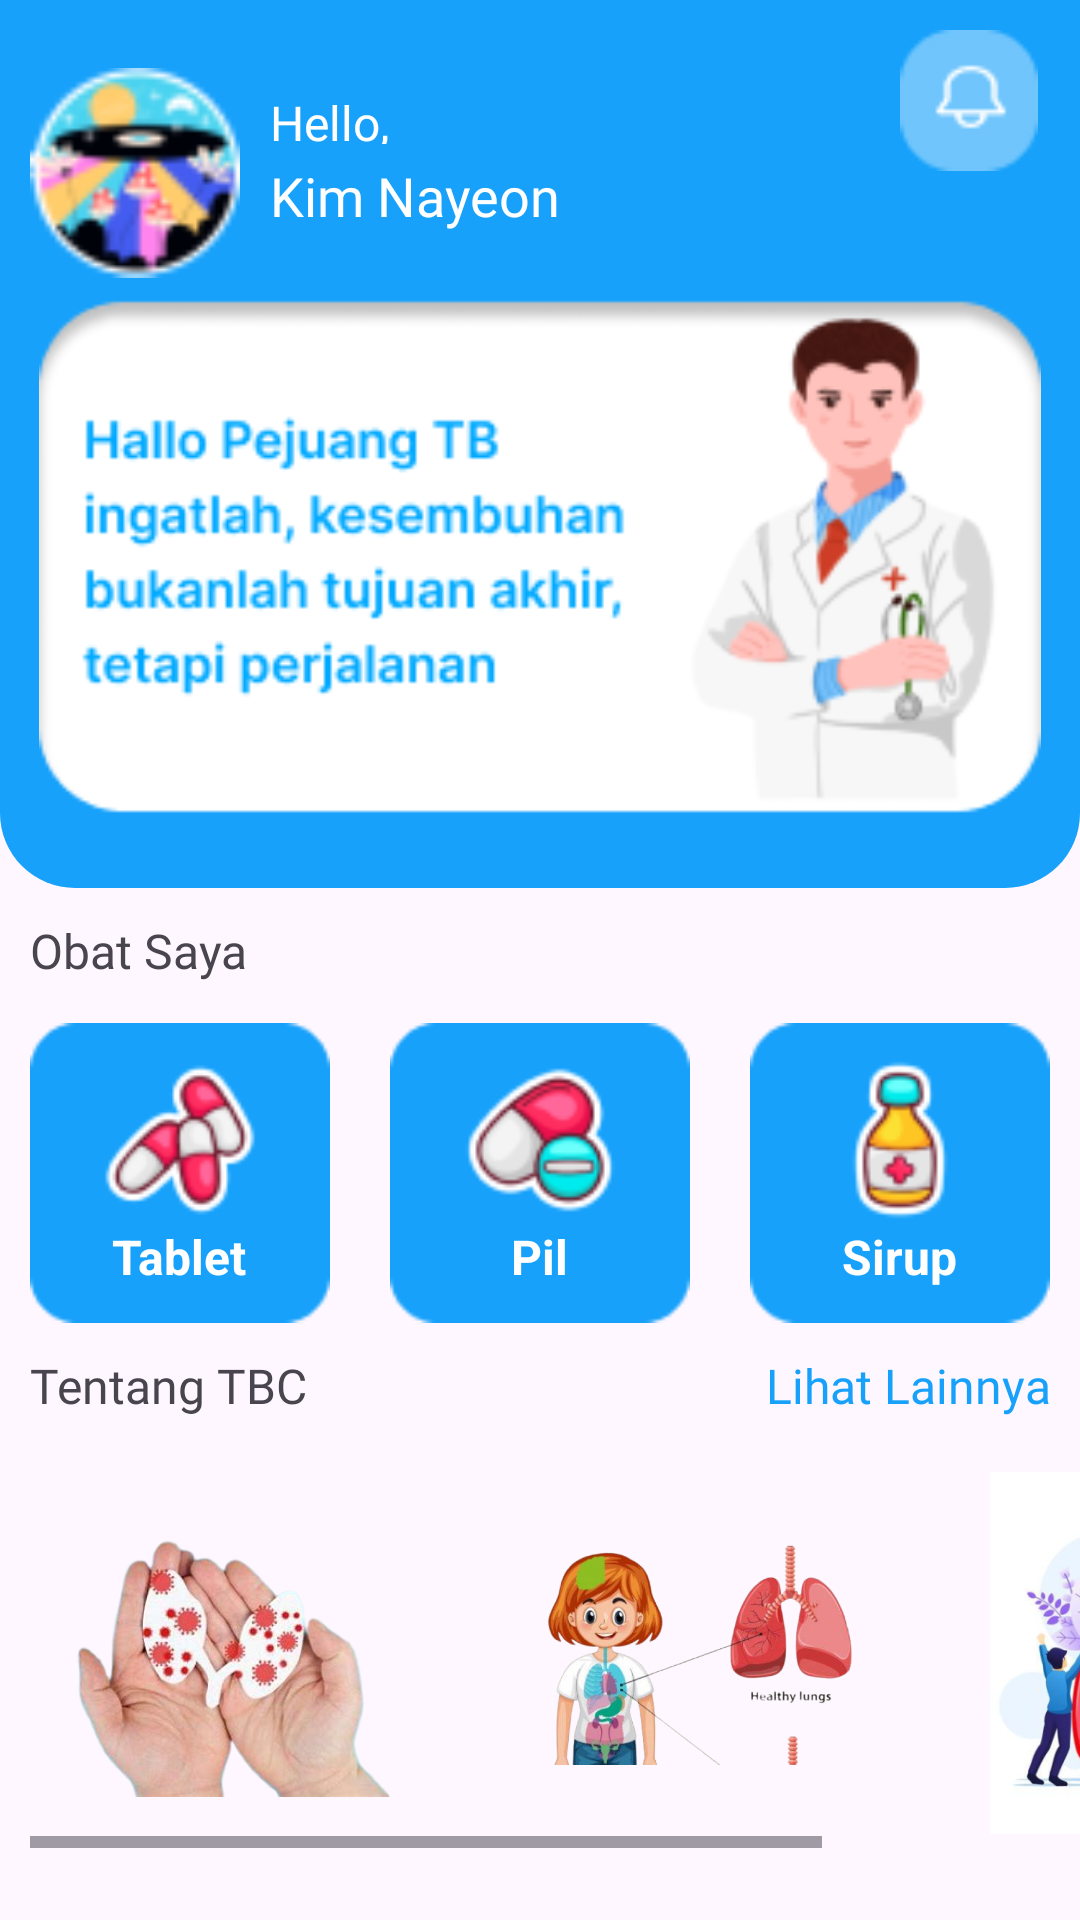

Locate icon controls on the screen. Image size 1080 x 1920, boxes as (x1, y1, x2, y2).
notifikasi: (900, 30, 1038, 171)
